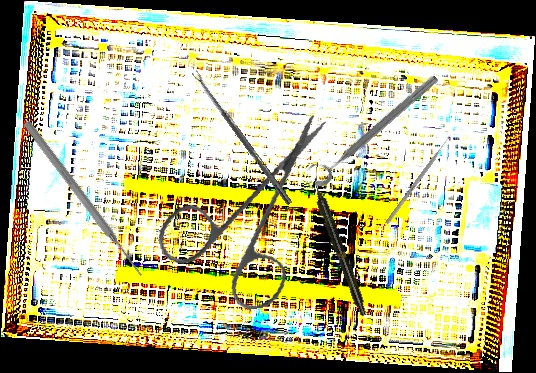Fixation Ring: (302, 64, 442, 191)
Handpiece: (308, 176, 370, 318)
Iris Scissors: (142, 113, 356, 324)
Pusher: (21, 119, 146, 279), (385, 133, 453, 225)
Surgical Spoon: (191, 69, 294, 206)
